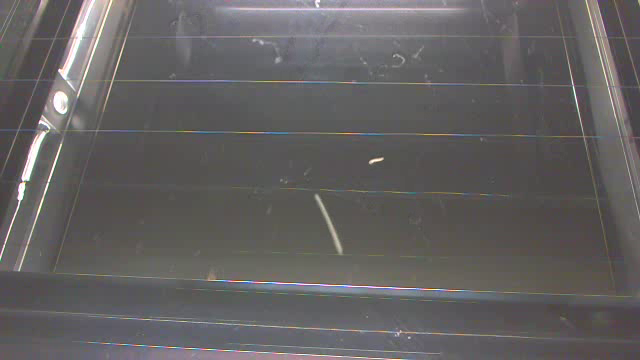alpha: (315, 193, 343, 254), (369, 157, 384, 164)
